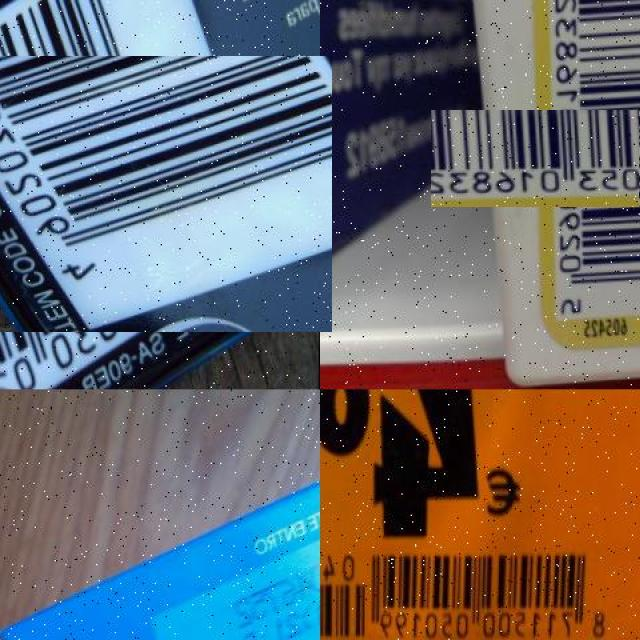Barcode: (0, 28, 304, 360), (486, 54, 640, 262), (366, 536, 622, 640)
